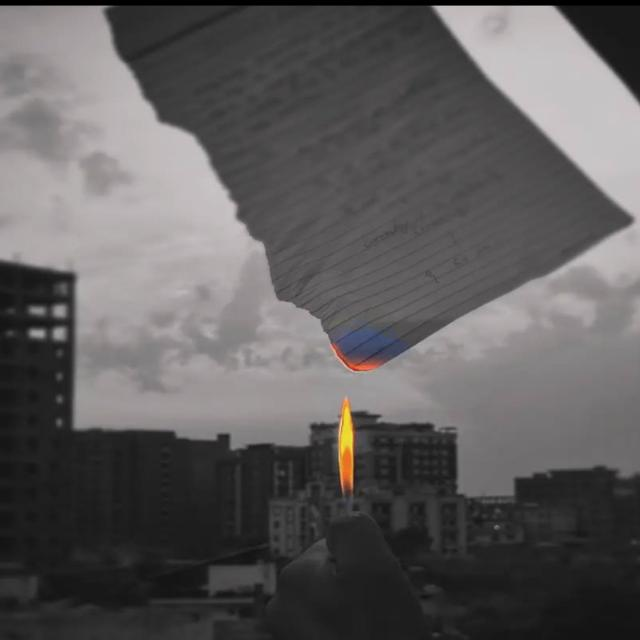fire: (331, 341, 387, 372), (338, 396, 354, 499)
